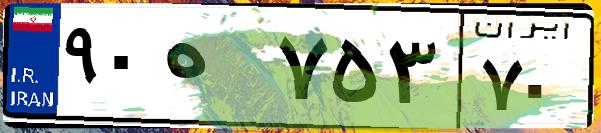0: (525, 38, 570, 115), (110, 28, 158, 98)
3: (385, 28, 445, 110)
5: (330, 28, 385, 110)
7: (270, 28, 330, 110), (475, 38, 525, 113)
9: (57, 26, 110, 100)
ه: (158, 20, 270, 120)
